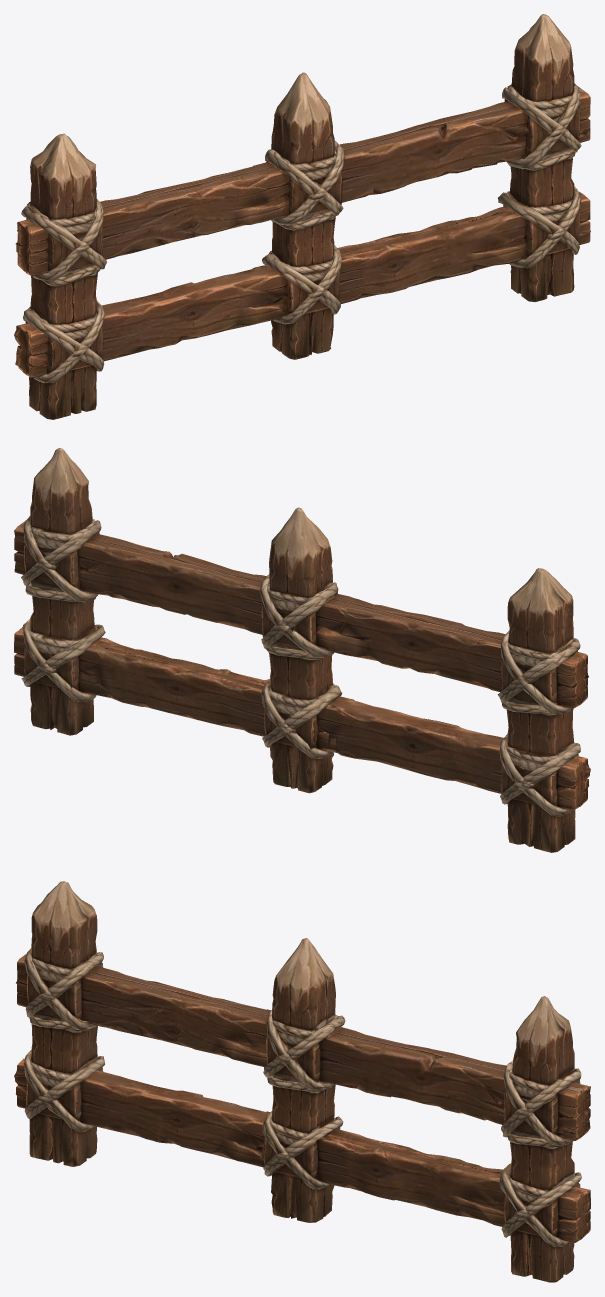
The model's file is shelter_t1_fence.glb.
3 views of the same model, one above another, from view 1: azimuth 30°, elevation 25°; view 2: azimuth 150°, elevation 25°; view 3: azimuth 330°, elevation 25° (orthographic).
Size of the model in its own units: 0.9541 by 0.4462 by 0.1157.
1 material, 1 textured.
